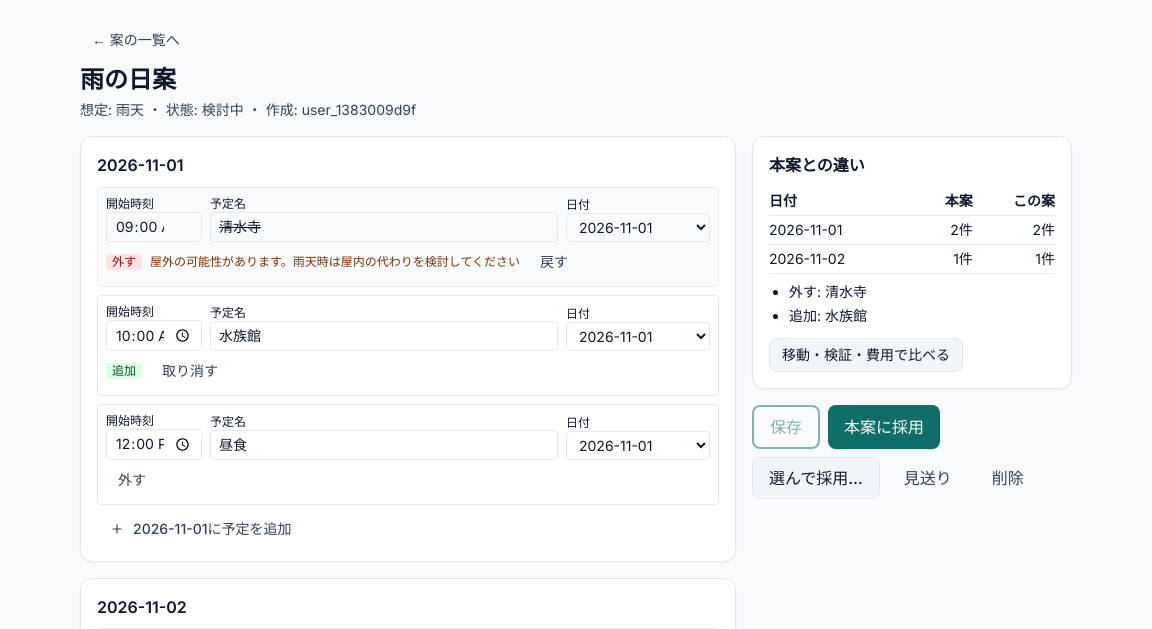
it: BranchDetailPage (Gate P7) › 採用が競合で拒否されたら理由を表示して最新の状態を読み直す
Step 1. Click the button "本案に採用" → [884, 427], box left=828, top=405, right=940, bottom=449
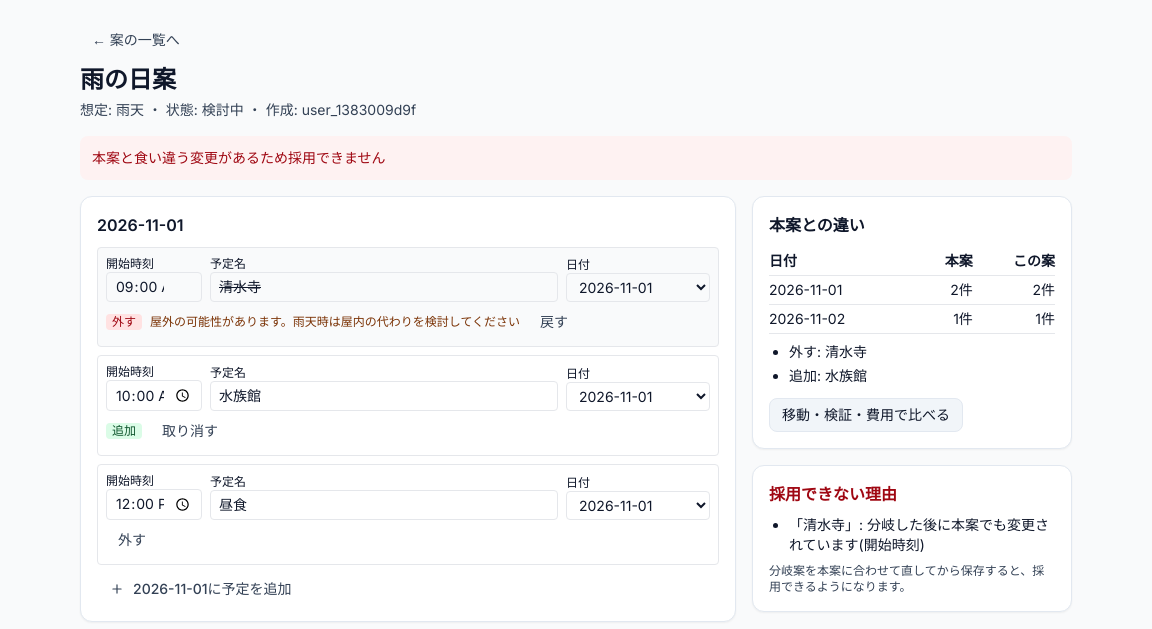
Check: the message reads "本案と食い違う変更があるため採用できません", box left=92, top=149, right=386, bottom=166
Check: the list with test id "branch-conflicts" is shown, box left=769, top=515, right=1055, bottom=555
